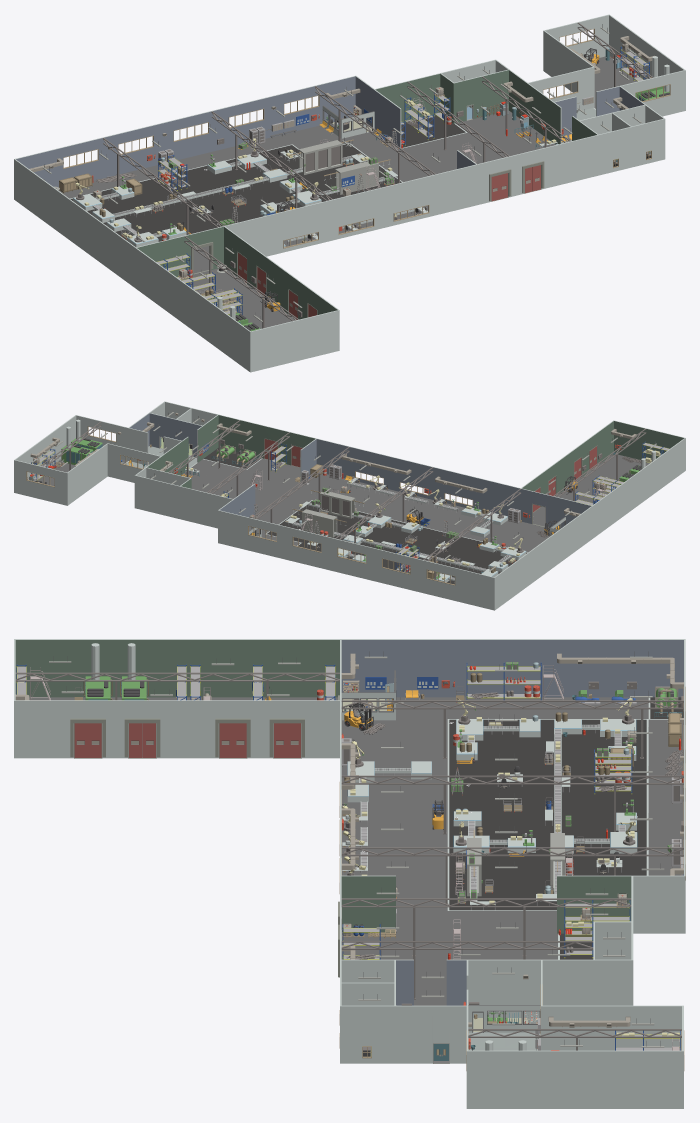
File: Factory.gltf
The picture shows the model from 3 angles, top to bottom: view 1: azimuth 30°, elevation 25°; view 2: azimuth 150°, elevation 25°; view 3: azimuth 270°, elevation 25°; orthographic projection. The views are drawn at different scales.
Parts seen in each view (by area): view 1: SM_Ground_2602, SM_Wall_Outer_Window_A_806, SM_Wall_Outer_Window_A_805, SM_Wall_Outer_Window_A_804, SM_Wall_Outer_Window_B_805, SM_Wall_Outer_Window_B_812, SM_Wall_Outer_600, SM_Wall_Outer_646, SM_Wall_Outer_638, SM_Wall_Outer_647, SM_Wall_Outer_Window_B_804, SM_Wall_Outer_Window_B_803 (+47 smaller); view 2: SM_Ground_2579, SM_Ground_2602, SM_Ground_2582, SM_Ground_2580, SM_Wall_Outer_Window_B_803, SM_Wall_Outer_Window_B_812, SM_Wall_Outer_Window_B_802, SM_Wall_Outer_Window_B_805, SM_Wall_Outer_Window_B_804, SM_Wall_Outer_Window_B_813, SM_Ground_2581, SM_Ground_2598 (+64 smaller); view 3: SM_Ground_2602, SM_Ground_2580, SM_Ground_2582, SM_Ground_2604, SM_Wall_Outer_623, SM_Wall_Outer_602, SM_Wall_Outer_622, SM_Wall_Outer_648, SM_Ground_2601, SM_Ground_2579, SM_Ground_2581, SM_Wall_Outer_640 (+64 smaller).
Part boxes in pixels (bbox=[...]): SM_Ground_2602: bbox=[163, 193, 258, 233]; SM_Wall_Outer_Window_A_806: bbox=[279, 202, 323, 253]; SM_Wall_Outer_Window_A_805: bbox=[334, 188, 378, 239]; SM_Wall_Outer_Window_A_804: bbox=[389, 175, 433, 226]; SM_Wall_Outer_Window_B_805: bbox=[169, 110, 213, 159]; SM_Wall_Outer_Window_B_812: bbox=[113, 124, 157, 175]; SM_Wall_Outer_600: bbox=[544, 140, 577, 188]; SM_Wall_Outer_646: bbox=[261, 321, 294, 369]; SM_Wall_Outer_638: bbox=[433, 167, 466, 215]; SM_Wall_Outer_647: bbox=[294, 313, 327, 361]; SM_Wall_Outer_Window_B_804: bbox=[224, 97, 268, 148]; SM_Wall_Outer_Window_B_803: bbox=[279, 83, 323, 134]; SM_Ground_2579: bbox=[213, 473, 294, 508]; SM_Ground_2602: bbox=[397, 528, 481, 563]; SM_Ground_2582: bbox=[375, 495, 458, 528]; SM_Ground_2580: bbox=[482, 521, 551, 552]; SM_Wall_Outer_Window_B_803: bbox=[244, 516, 280, 557]; SM_Wall_Outer_Window_B_812: bbox=[378, 549, 414, 590]; SM_Wall_Outer_Window_B_802: bbox=[23, 462, 58, 503]; SM_Wall_Outer_Window_B_805: bbox=[334, 538, 369, 579]; SM_Wall_Outer_Window_B_804: bbox=[289, 527, 325, 568]; SM_Wall_Outer_Window_B_813: bbox=[423, 560, 458, 601]; SM_Ground_2581: bbox=[429, 506, 508, 541]; SM_Ground_2598: bbox=[335, 481, 402, 514]; SM_Ground_2602: bbox=[449, 765, 554, 811]; SM_Ground_2580: bbox=[342, 719, 447, 765]; SM_Ground_2582: bbox=[341, 811, 447, 857]; SM_Ground_2604: bbox=[449, 857, 556, 902]; SM_Wall_Outer_623: bbox=[593, 1050, 647, 1108]; SM_Wall_Outer_602: bbox=[484, 1050, 538, 1108]; SM_Wall_Outer_622: bbox=[539, 1050, 593, 1108]; SM_Wall_Outer_648: bbox=[160, 700, 214, 758]; SM_Ground_2601: bbox=[449, 719, 554, 765]; SM_Ground_2579: bbox=[415, 933, 522, 979]; SM_Ground_2581: bbox=[341, 765, 447, 811]; SM_Wall_Outer_640: bbox=[267, 639, 321, 697].
Size of the model in its own units: 108 by 7.25 by 74.24.
Materials: 8 (3 with a texture image).
